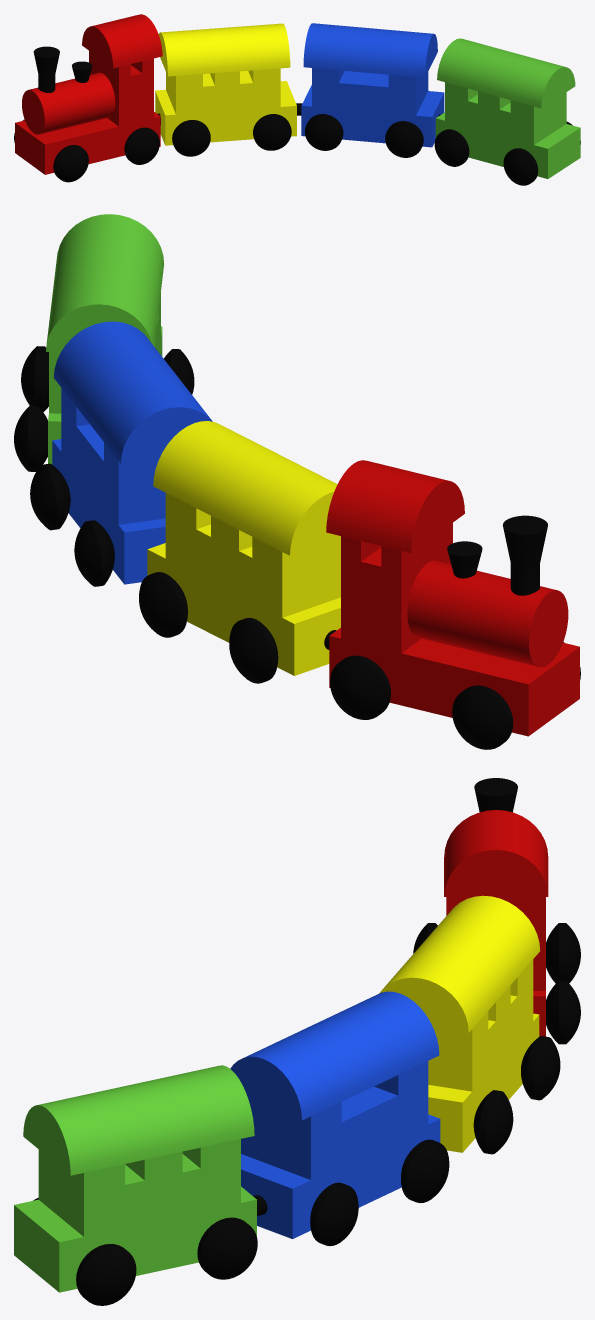
File: tain.fbx
3 renders of one model, top to bottom at view 1: azimuth 30°, elevation 25°; view 2: azimuth 150°, elevation 25°; view 3: azimuth 270°, elevation 25°, orthographic. The views are drawn at different scales.
Parts seen in each view (by area): view 1: Cylinder_1, Cylinder_1_2, Cylinder_1_3, Cube_1, Cube_1_2, Cube_1_3, base_4, Cylinder, base, base_3, base_2, Cylinder_1_4 (+11 smaller); view 2: Cylinder_1_3, Cylinder_1_2, base_4, Cylinder_1, Cylinder, Cube_1_3, Cylinder_1_4, Cube_2, base_3, Cube_1_2, base_2, Oil_Tank_3_5 (+11 smaller); view 3: Cylinder_1, Cylinder_1_2, Cube_1, Cylinder_1_3, Cube_1_2, base, Cylinder_1_4, base_2, Cube_1_3, base_3, Oil_Tank_3, Oil_Tank_2 (+8 smaller).
Boxes of the visible parts, x1,y1,x2,y2 form: Cylinder_1: (437,38,575,108); Cylinder_1_2: (303,23,437,77); Cylinder_1_3: (158,23,290,76); Cube_1: (445,82,566,144); Cube_1_2: (312,68,428,115); Cube_1_3: (166,68,280,114); base_4: (15,112,160,174); Cylinder: (22,72,115,134); base: (435,112,580,178); base_3: (155,81,296,145); base_2: (301,85,444,147); Cylinder_1_4: (82,14,162,68); Cylinder_1_3: (153,421,340,555); Cylinder_1_2: (53,321,212,463); base_4: (329,627,579,736); Cylinder_1: (46,214,163,352); Cylinder: (407,560,568,667); Cube_1_3: (165,493,340,617); Cylinder_1_4: (326,460,464,552); Cube_2: (341,523,452,653); base_3: (147,543,340,675); Cube_1_2: (61,388,165,524); base_2: (52,439,165,584); Oil_Tank_3_5: (452,685,513,749); Cylinder_1: (23,1065,254,1175); Cylinder_1_2: (230,991,439,1120); Cube_1: (38,1139,240,1237); Cylinder_1_3: (379,895,540,1032); Cube_1_2: (241,1061,428,1179); base: (14,1186,256,1292); Cylinder_1_4: (444,810,548,896); base_2: (241,1114,440,1238); Cube_1_3: (428,959,533,1091); base_3: (428,1013,539,1152); Oil_Tank_3: (197,1217,257,1279); Oil_Tank_2: (76,1244,136,1305).
Bounding box in the file's own units: 1647 × 469 × 1140.
